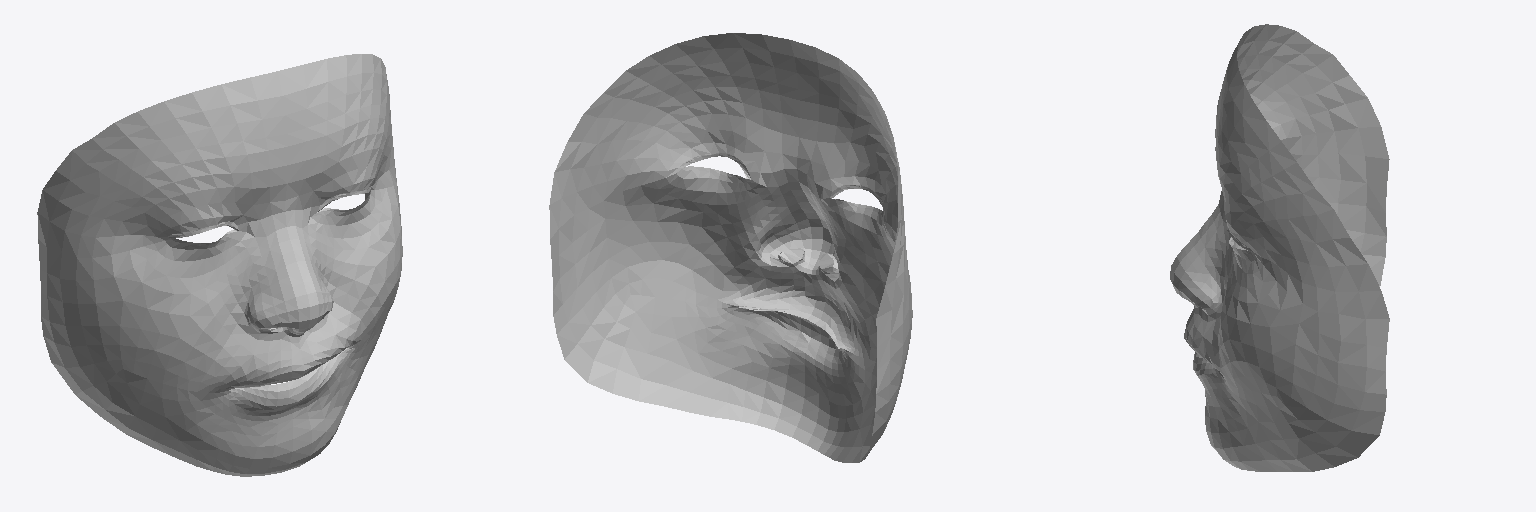
The model's file is mouthPress_L.obj.
3 renders of one model, left to right at view 1: azimuth 30°, elevation 25°; view 2: azimuth 150°, elevation 25°; view 3: azimuth 270°, elevation 25°, orthographic.
Visible parts, largest first — view 1: default; view 2: default; view 3: default.
Part boxes in pixels (x1,y1,x2,y2): default: (37, 54, 402, 476); default: (549, 33, 912, 462); default: (1170, 24, 1389, 471).
Size of the model in its own units: 0.1624 by 0.1839 by 0.0912.